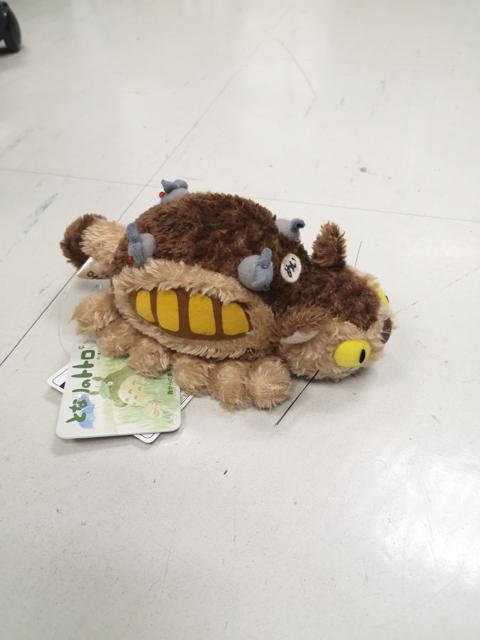nekobus: (50, 171, 399, 427)
